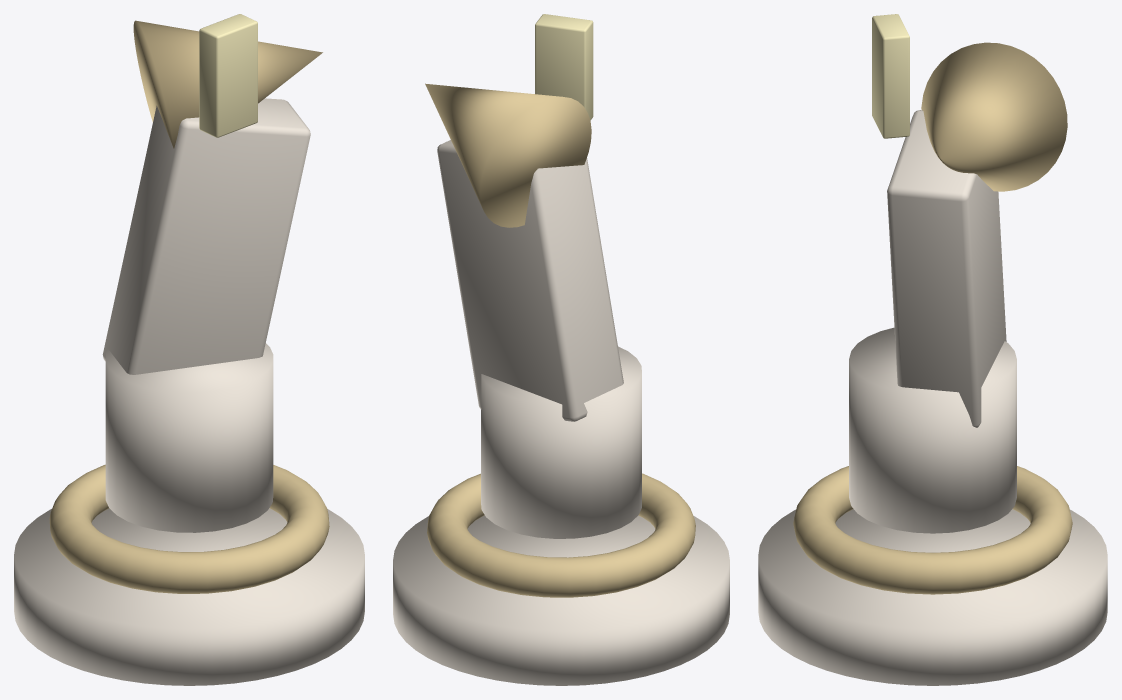
Rendered from knight.glb.
The picture shows the model from 3 angles, left to right: view 1: azimuth 30°, elevation 25°; view 2: azimuth 150°, elevation 25°; view 3: azimuth 270°, elevation 25°; orthographic projection. The views are drawn at different scales.
Parts seen in each view (by area): view 1: base, collar, ear; view 2: base, collar, ear; view 3: base, collar, ear.
Part boxes in pixels (left/top/right/bottom): base: left=14, top=98, right=364, bottom=685; collar: left=49, top=20, right=329, bottom=593; ear: left=199, top=14, right=257, bottom=137; base: left=393, top=140, right=729, bottom=685; collar: left=425, top=83, right=695, bottom=597; ear: left=535, top=14, right=593, bottom=120; base: left=758, top=110, right=1107, bottom=685; collar: left=793, top=42, right=1072, bottom=594; ear: left=872, top=14, right=909, bottom=138.
Bounding box in the file's own units: 0.5 × 0.94 × 0.5.
